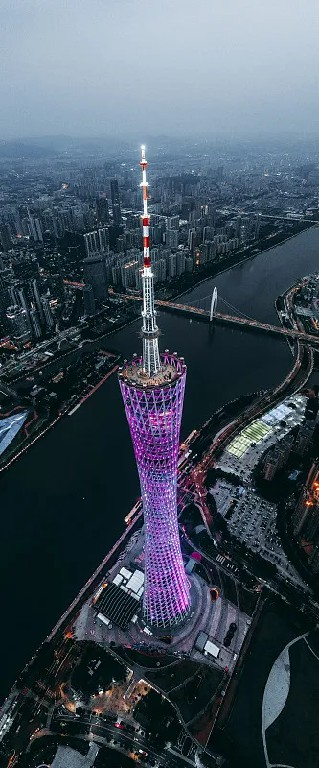Canton: (117, 143, 195, 630)
